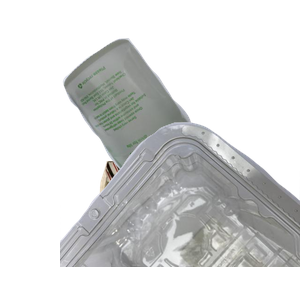glass: (60, 36, 300, 216)
metal: (77, 61, 222, 191)
plastic: (60, 120, 300, 300)
trash: (92, 158, 277, 300)
